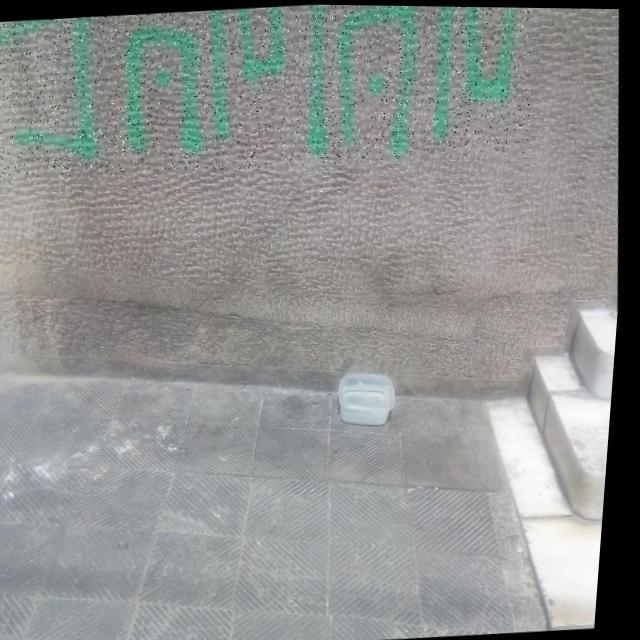-: (0, 0, 540, 188)
